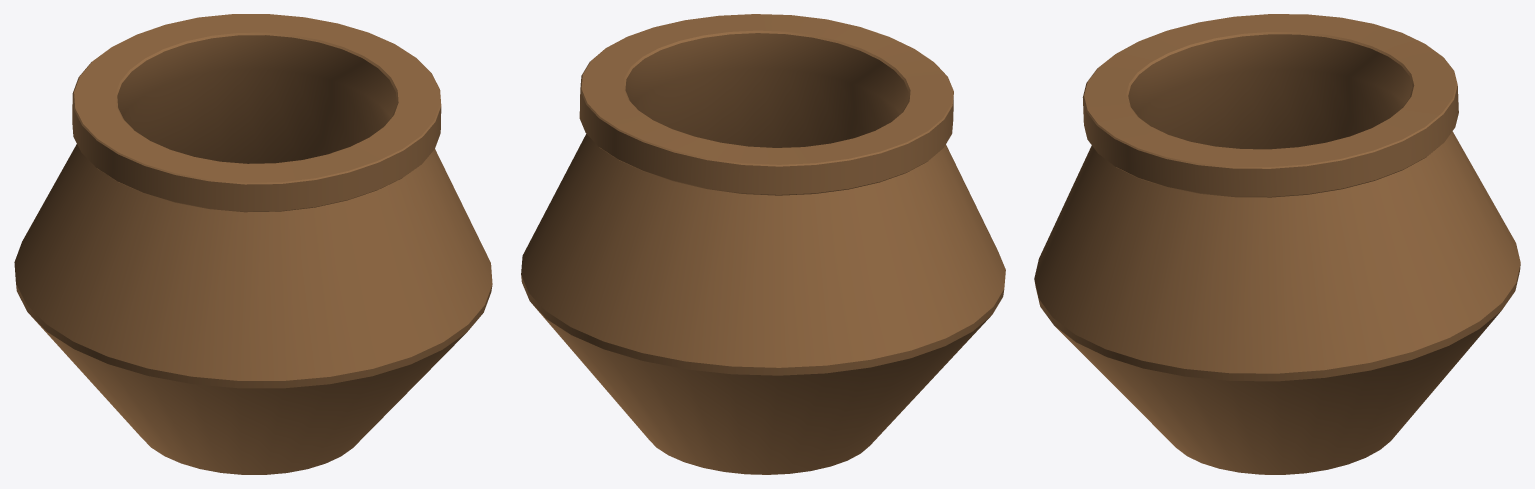
File: Pot6.fbx
The picture shows the model from 3 angles, left to right: view 1: azimuth 30°, elevation 25°; view 2: azimuth 150°, elevation 25°; view 3: azimuth 270°, elevation 25°; orthographic projection.
Parts seen in each view (by area): view 1: Pot6.001; view 2: Pot6.001; view 3: Pot6.001.
Boxes of the visible parts, x1,y1,x2,y2 form: Pot6.001: (14, 14, 492, 474); Pot6.001: (521, 14, 1005, 474); Pot6.001: (1034, 14, 1520, 474).
Bounding box in the file's own units: 67.61 × 53.35 × 67.56.
1 material, 1 textured.
